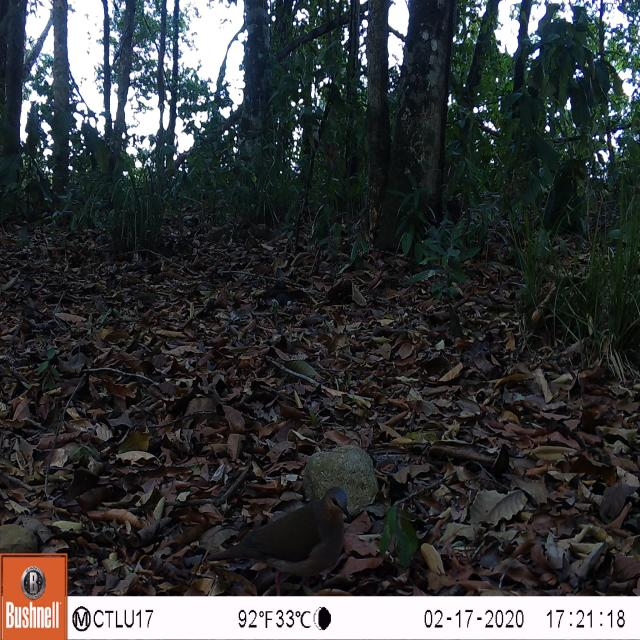Salvins Curassow: (186, 473, 366, 594)
